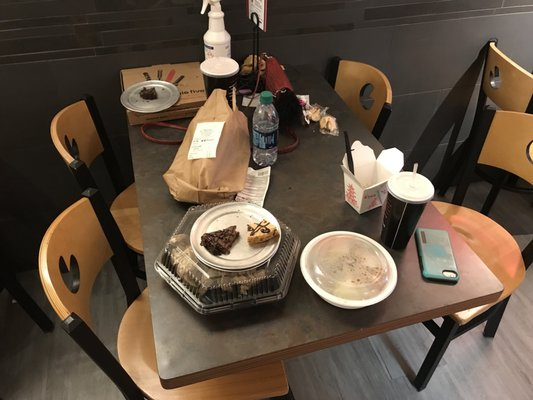sushi: (300, 230, 397, 309)
